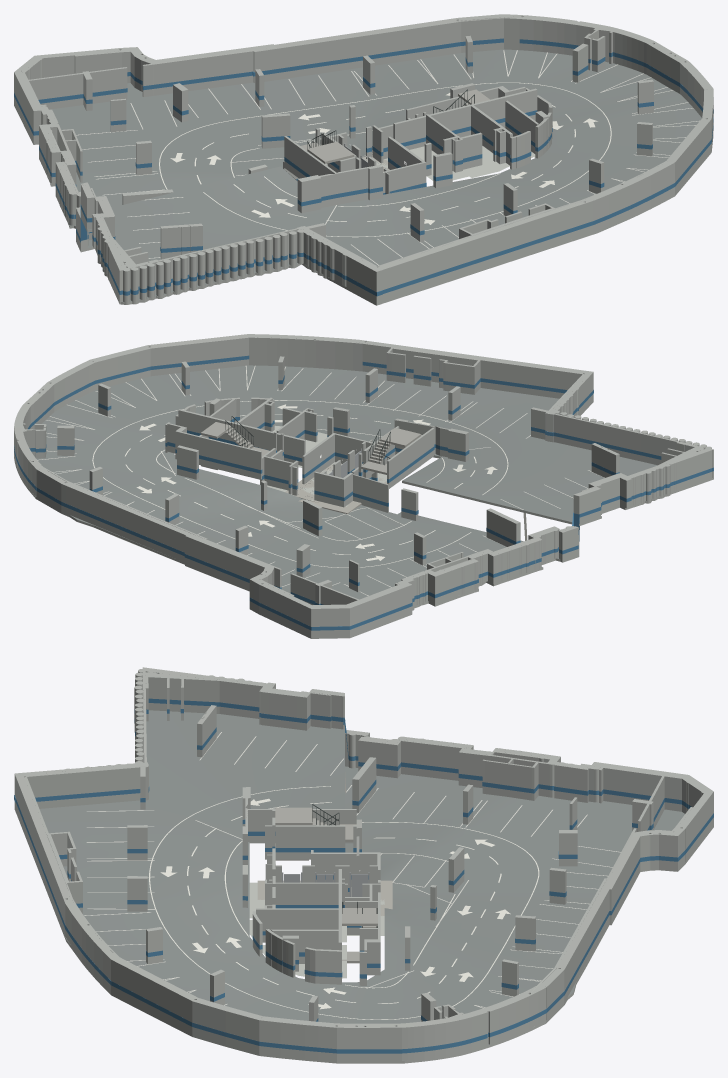
Rendered from B02-overview.glb.
3 views of the same model, one above another, from view 1: azimuth 30°, elevation 25°; view 2: azimuth 150°, elevation 25°; view 3: azimuth 270°, elevation 25° (orthographic). The views are drawn at different scales.
Visible parts, largest first — view 1: SOURCE GRADES | north floor, SOURCE GRADES | south floor, SOURCE WALL | 97, SOURCE WALL | 103, SOURCE WALL | 104, SOURCE WALL | 279, SOURCE WALL | 286, SOURCE WALL | 31, SOURCE WALL | 89, SOURCE WALL | 285, SOURCE WALL | 601, PROPOSED TRAFFIC | source-two-way-aisle | edge (+41 smaller); view 2: SOURCE GRADES | south floor, SOURCE GRADES | north floor, SOURCE WALL | 100, SOURCE WALL | 293, SOURCE WALL | 285, SOURCE WALL | 98, SOURCE WALL | 741, SOURCE WALL | 258, SOURCE WALL | 101, SOURCE WALL | 31, SOURCE WALL | 256, SOURCE WALL | 37 (+39 smaller); view 3: SOURCE GRADES | south floor, SOURCE GRADES | north floor, SOURCE WALL | 96, SOURCE WALL | 279, SOURCE WALL | 285, SOURCE WALL | 283, SOURCE WALL | 97, SOURCE WALL | 284, SOURCE WALL | 611, SOURCE WALL | 100, SOURCE WALL | 717, SOURCE WALL | 29.001 (+31 smaller).
Part boxes in pixels (<box>): SOURCE GRADES | north floor: <box>48,49,675,247</box>; SOURCE GRADES | south floor: <box>87,92,701,302</box>; SOURCE WALL | 97: <box>378,201,593,300</box>; SOURCE WALL | 103: <box>253,21,461,83</box>; SOURCE WALL | 104: <box>153,47,275,95</box>; SOURCE WALL | 279: <box>494,14,609,55</box>; SOURCE WALL | 286: <box>575,161,674,231</box>; SOURCE WALL | 31: <box>393,88,537,149</box>; SOURCE WALL | 89: <box>296,226,382,302</box>; SOURCE WALL | 285: <box>666,118,711,193</box>; SOURCE WALL | 601: <box>28,72,83,109</box>; PROPOSED TRAFFIC | source-two-way-aisle | edge: <box>159,82,611,237</box>; SOURCE GRADES | south floor: <box>52,365,664,521</box>; SOURCE GRADES | north floor: <box>14,414,559,605</box>; SOURCE WALL | 100: <box>61,481,190,562</box>; SOURCE WALL | 293: <box>248,337,366,371</box>; SOURCE WALL | 285: <box>148,334,248,376</box>; SOURCE WALL | 98: <box>480,359,583,398</box>; SOURCE WALL | 741: <box>554,413,642,461</box>; SOURCE WALL | 258: <box>339,582,412,636</box>; SOURCE WALL | 101: <box>185,534,266,588</box>; SOURCE WALL | 31: <box>178,409,305,465</box>; SOURCE WALL | 256: <box>259,582,319,636</box>; SOURCE WALL | 37: <box>199,436,261,479</box>; SOURCE GRADES | south floor: <box>39,710,344,1023</box>; SOURCE GRADES | north floor: <box>345,766,684,1060</box>; SOURCE WALL | 96: <box>26,766,148,808</box>; SOURCE WALL | 279: <box>455,982,546,1052</box>; SOURCE WALL | 285: <box>111,957,198,1033</box>; SOURCE WALL | 283: <box>259,1016,337,1060</box>; SOURCE WALL | 97: <box>16,776,68,935</box>; SOURCE WALL | 284: <box>192,998,262,1052</box>; SOURCE WALL | 611: <box>583,764,685,811</box>; SOURCE WALL | 100: <box>557,888,609,1002</box>; SOURCE WALL | 717: <box>148,676,219,713</box>; SOURCE WALL | 29.001: <box>275,825,344,859</box>.
Size of what is drawn, in the model's own units: 59.71 by 6.45 by 51.79.
